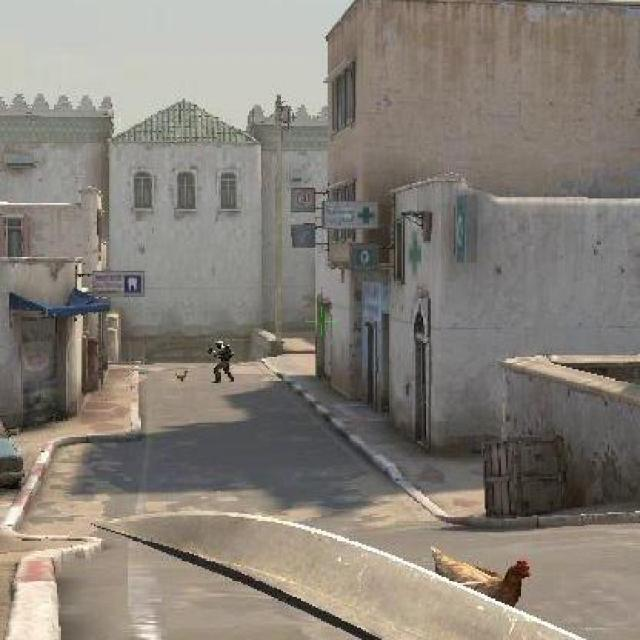CT: (206, 340, 234, 383)
CT_HEAD: (216, 340, 224, 346)
